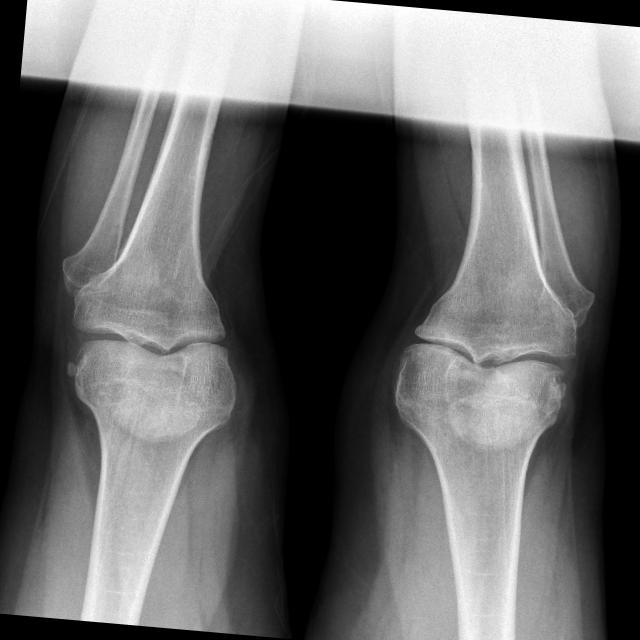Knee: (392, 288, 578, 423), (64, 274, 245, 411)
